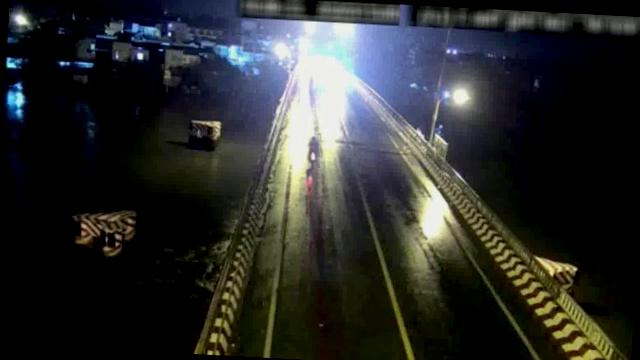Bike: (304, 134, 321, 169)
